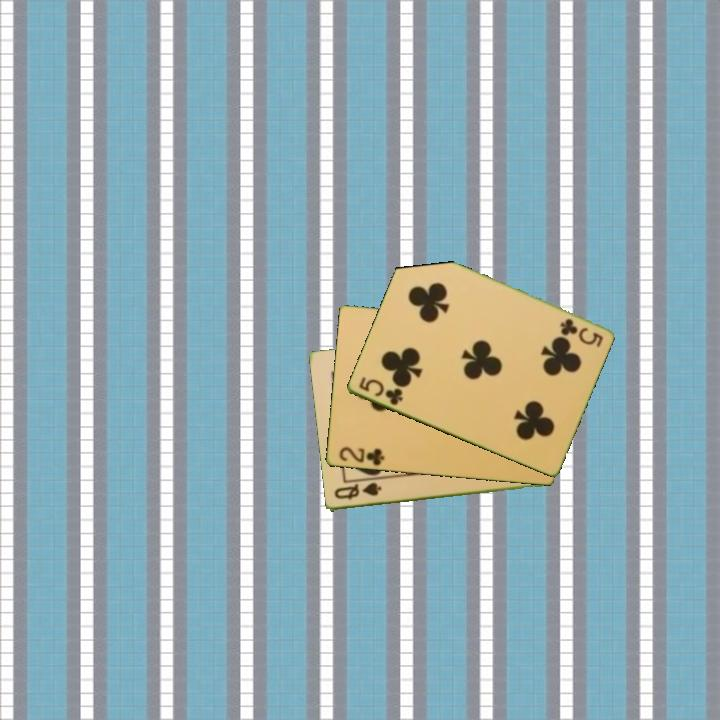2c: (335, 443, 387, 469)
5c: (355, 373, 405, 409), (556, 315, 606, 350)
Qs: (330, 480, 384, 503)
